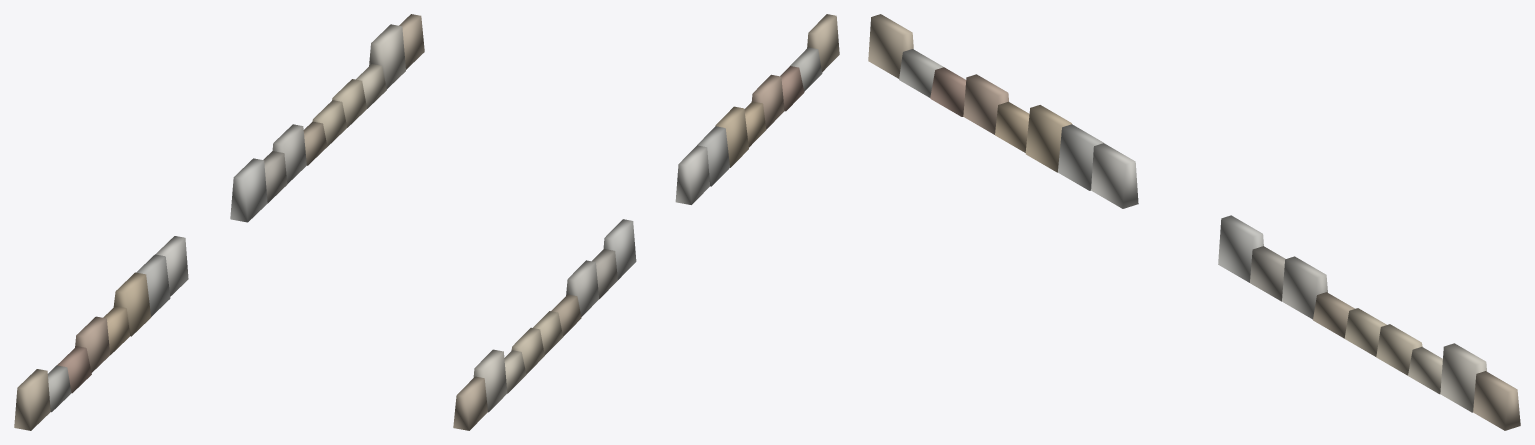
The model's file is farm_0_3_collision.glb.
The picture shows the model from 3 angles, left to right: view 1: azimuth 30°, elevation 25°; view 2: azimuth 210°, elevation 25°; view 3: azimuth 270°, elevation 25°; orthographic projection. The views are drawn at different scales.
Parts seen in each view (by area): view 1: geometry_0; view 2: geometry_0; view 3: geometry_0.
Boxes of the visible parts, x1=… form: geometry_0: x1=14, y1=14, x2=424, y2=430; geometry_0: x1=453, y1=14, x2=839, y2=430; geometry_0: x1=868, y1=14, x2=1520, y2=430.
Size of the model in its own units: 25.63 by 1.78 by 19.43.
